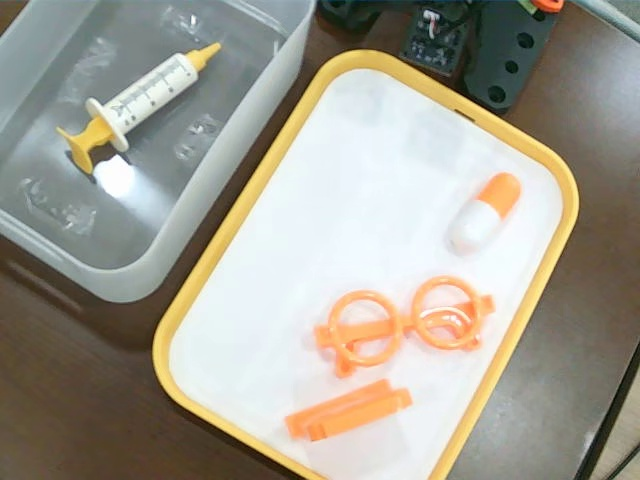pill: (453, 172, 523, 253)
syringe: (56, 43, 223, 175)
